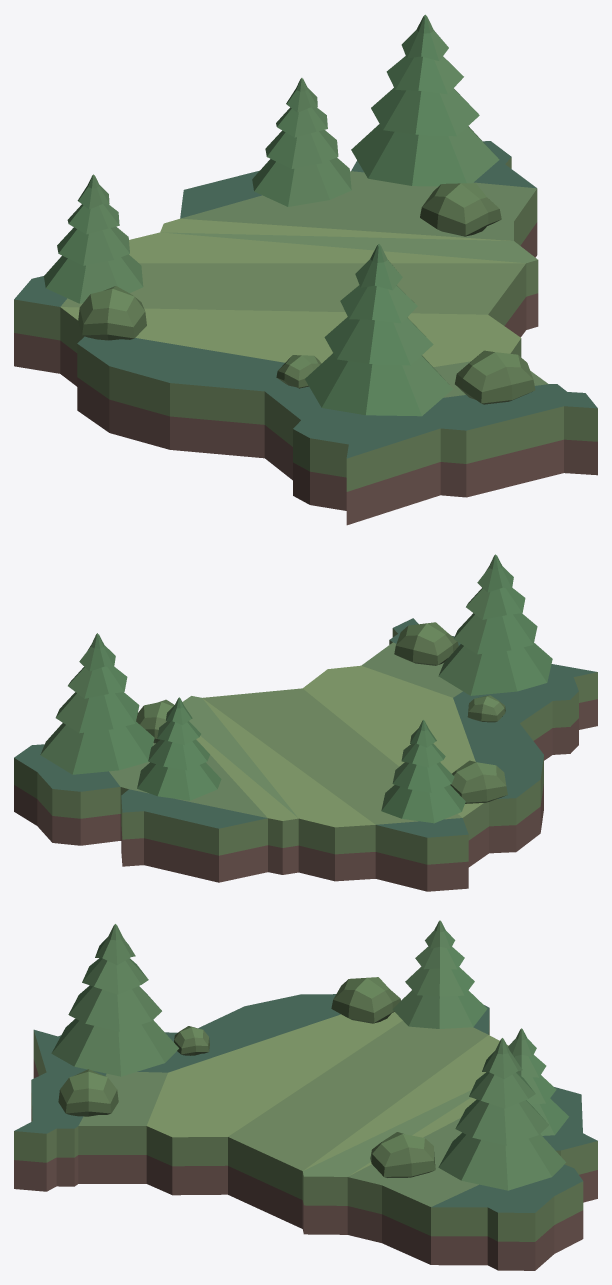
The model's file is batagayalita.gltf.
The picture shows the model from 3 angles, top to bottom: view 1: azimuth 30°, elevation 25°; view 2: azimuth 150°, elevation 25°; view 3: azimuth 270°, elevation 25°; orthographic projection. The views are drawn at different scales.
Visible parts, largest first — view 1: батагайалыта; view 2: батагайалыта; view 3: батагайалыта.
Boxes of the visible parts, x1,y1,x2,y2 form: батагайалыта: [14, 14, 597, 525]; батагайалыта: [14, 554, 597, 891]; батагайалыта: [14, 920, 597, 1270].
Size of the model in its own units: 1.27 by 0.5325 by 1.43.
